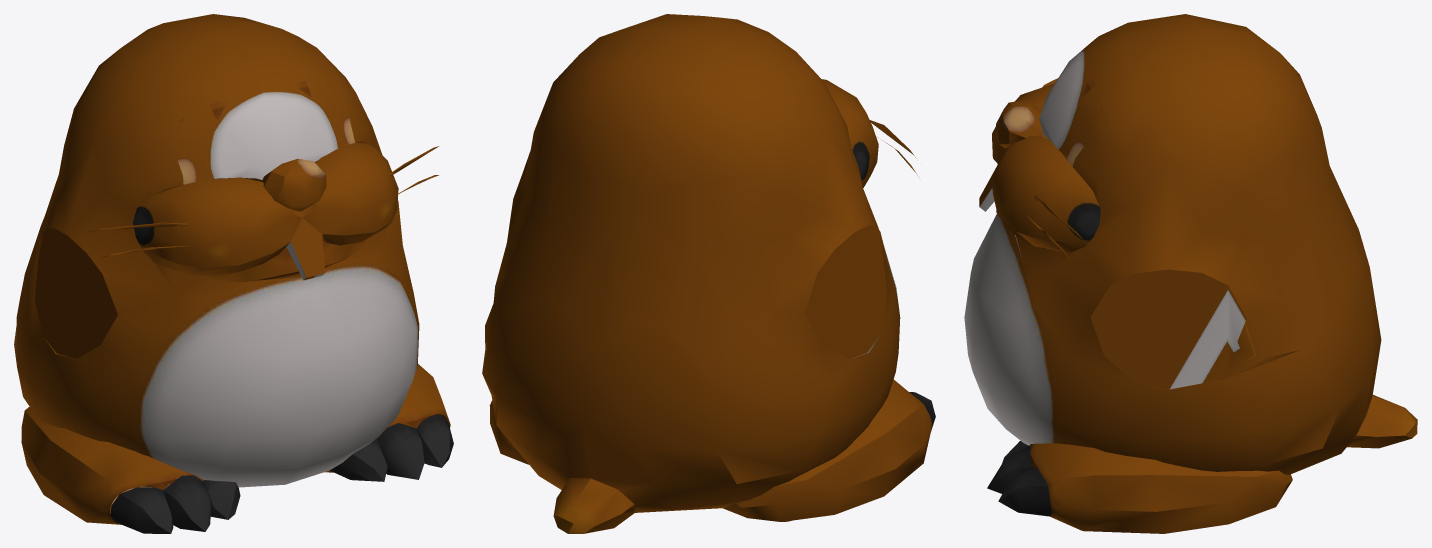
Rendered from taupe_sans_whack.fbx.
3 views of the same model, side by side, from view 1: azimuth 30°, elevation 25°; view 2: azimuth 150°, elevation 25°; view 3: azimuth 270°, elevation 25° (orthographic). The views are drawn at different scales.
Parts seen in each view (by area): view 1: Object_7.008; view 2: Object_7.008; view 3: Object_7.008.
Part boxes in pixels (x1=…): Object_7.008: x1=14, y1=14, x2=453, y2=533; Object_7.008: x1=482, y1=14, x2=935, y2=533; Object_7.008: x1=964, y1=14, x2=1417, y2=533.
Bounding box in the file's own units: 81.64 × 85.15 × 87.16.
Materials: 2 (2 with a texture image).
